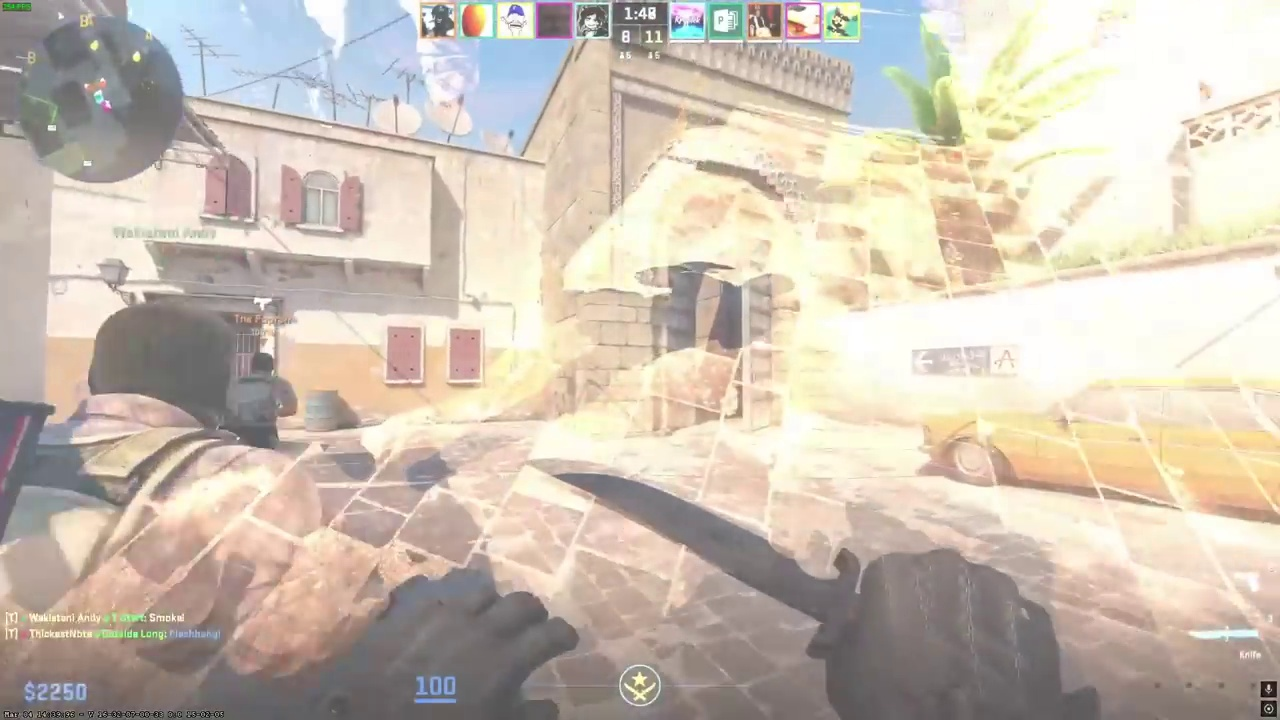Terrorist: (3, 306, 275, 719), (224, 353, 294, 451)
